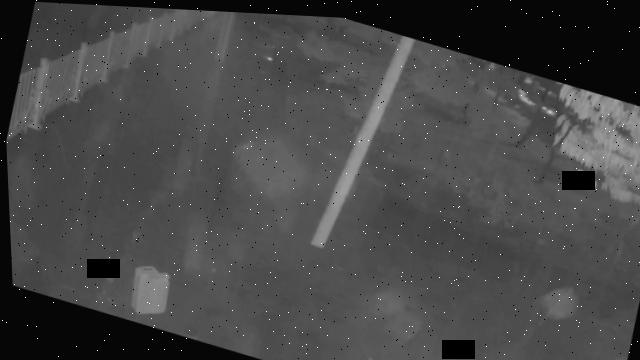bag: (122, 261, 172, 319)
